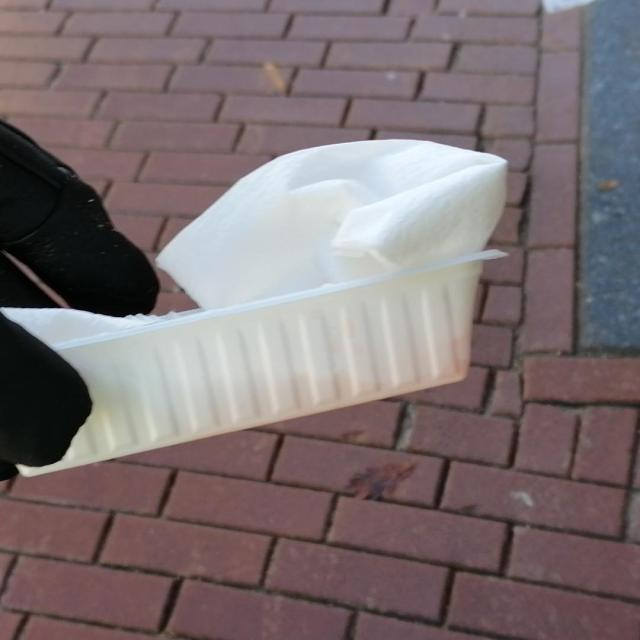Paper: (155, 138, 510, 312)
Plastic: (1, 248, 508, 480)
